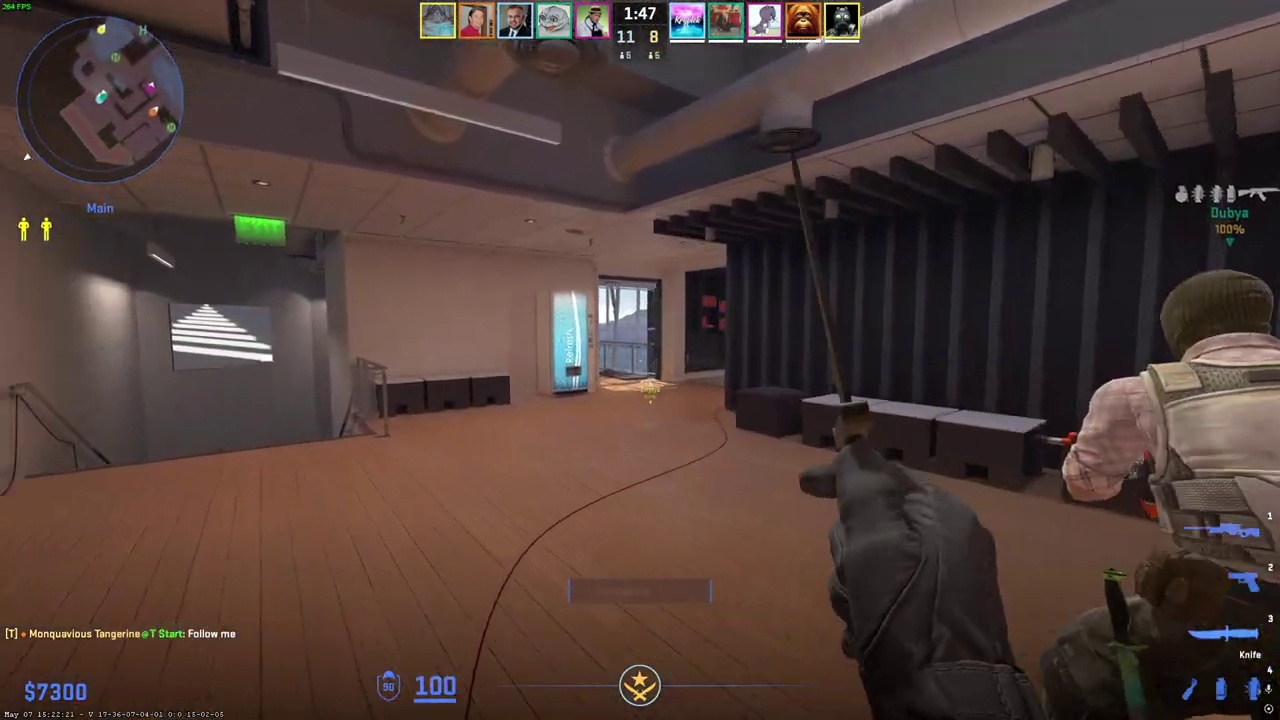Terrorist: (1069, 267, 1280, 720)
